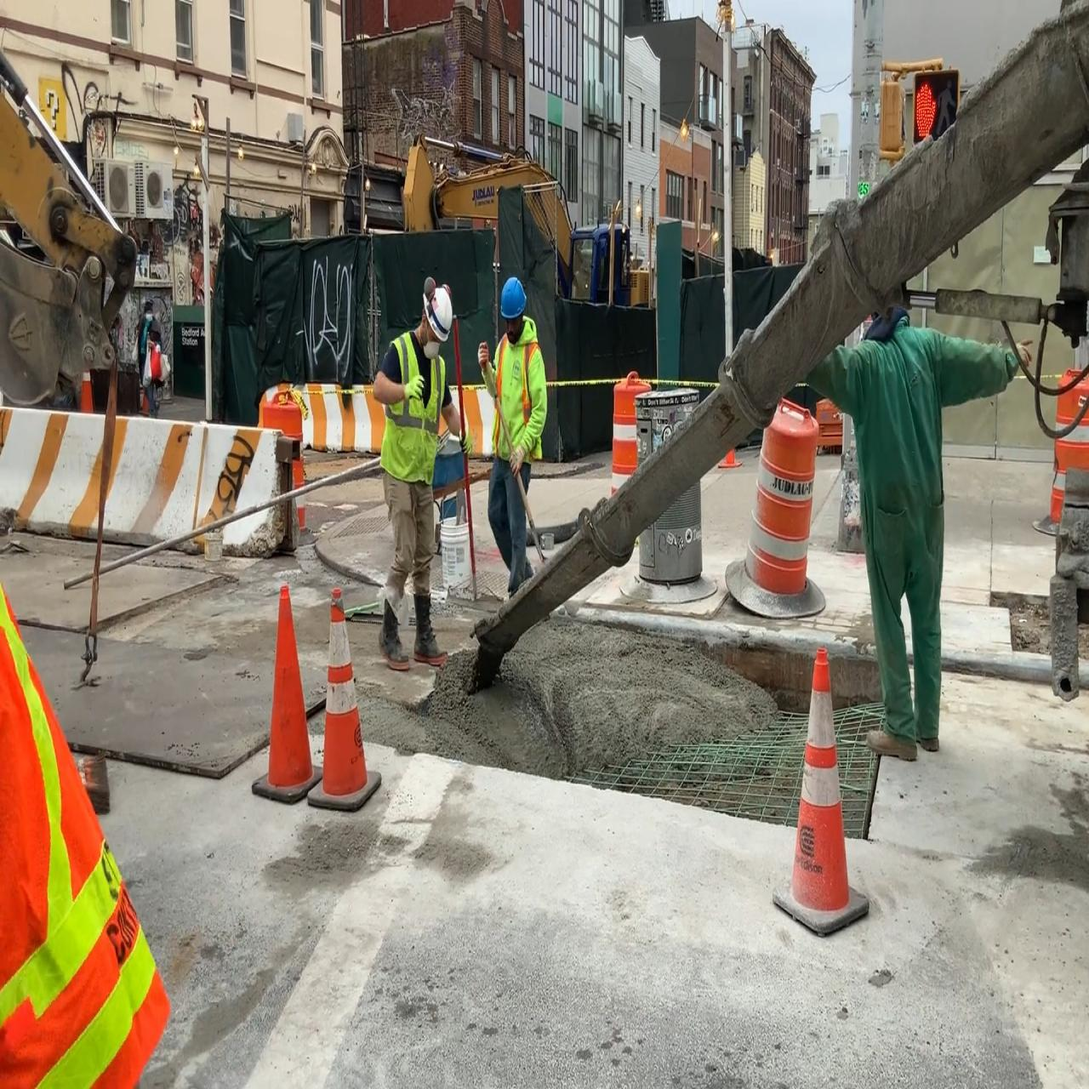NO_Safety_Vest: (858, 334, 945, 532), (138, 322, 162, 370)
Person: (794, 277, 1034, 763), (374, 284, 472, 671), (479, 274, 548, 609), (132, 298, 171, 419)
Safety_Vest: (0, 559, 179, 1088), (384, 327, 450, 492), (488, 327, 546, 470)
